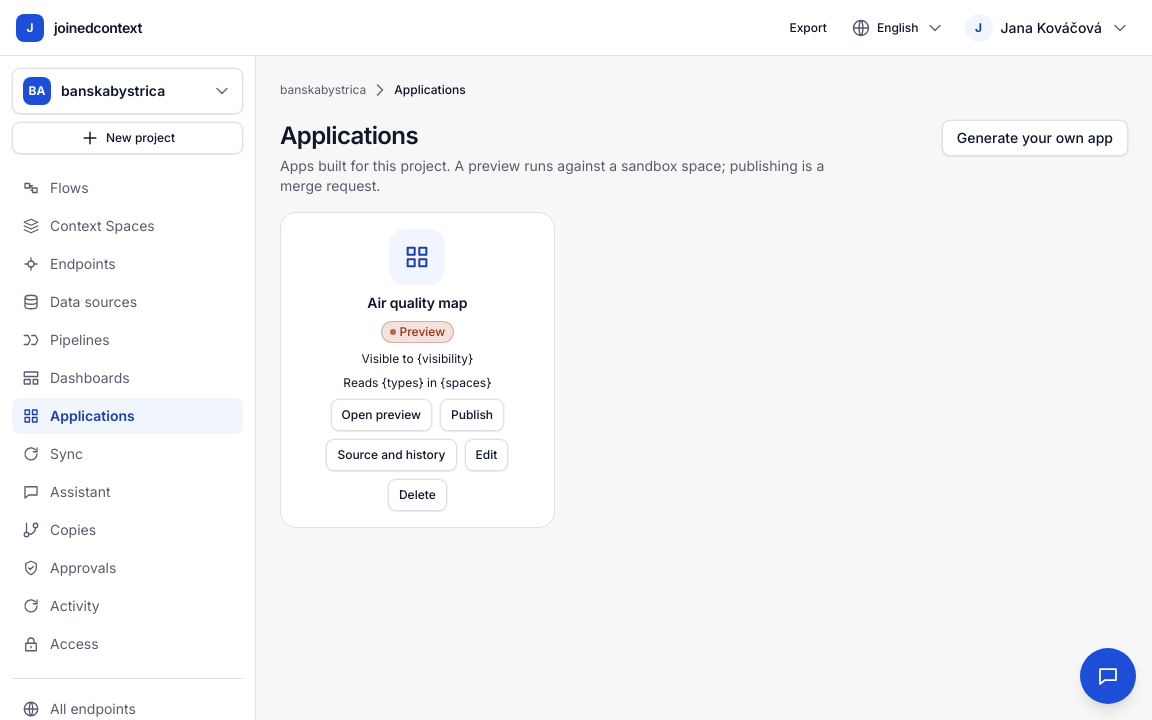
Test: apps catalog › says why an app that refuses framing has no preview (AP-12)
Click the button "Open preview": (381, 415) [331,399,432,431]
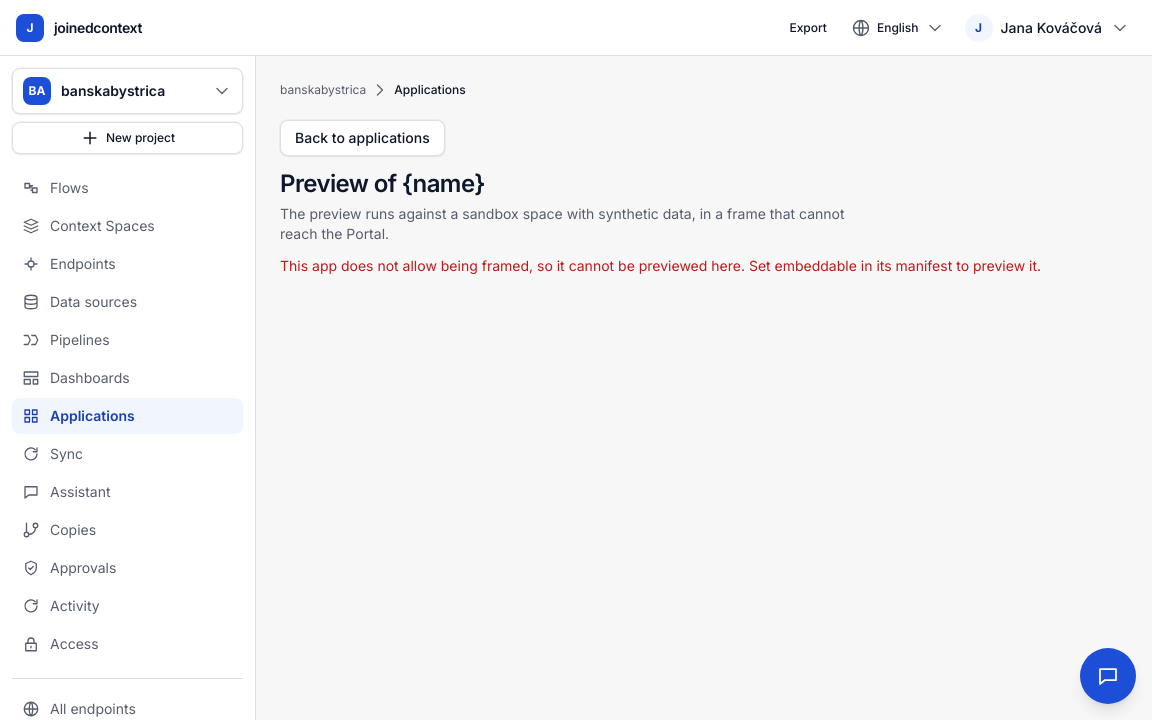
Result: the message shows "This app does not allow being framed, so it cannot be previewed here. Set embeddable in its manifest to preview it." at [280,257,1041,274]
